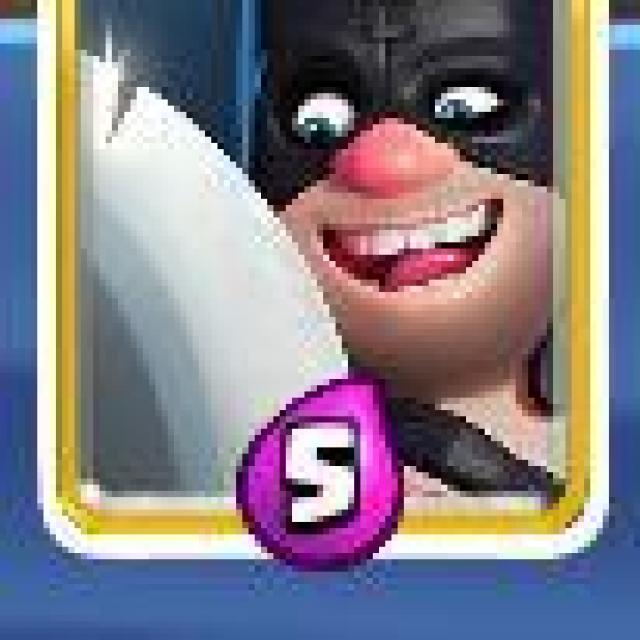Executioner: (35, 0, 614, 564)
